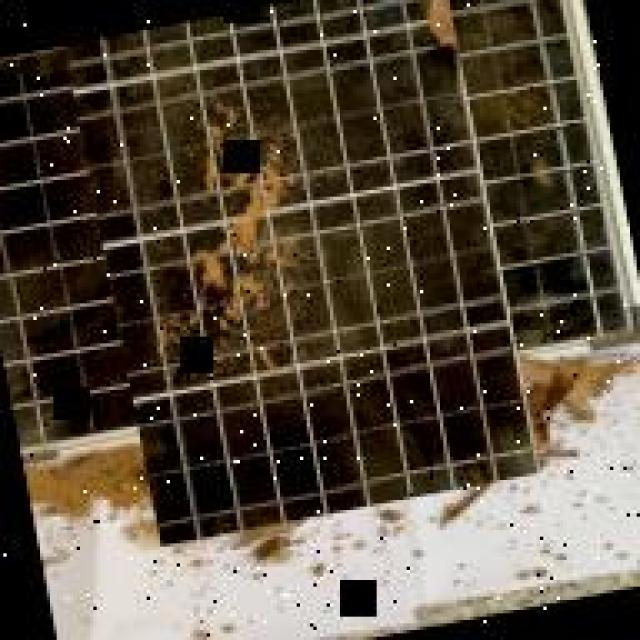dust-solar-panel: (0, 0, 640, 542)
